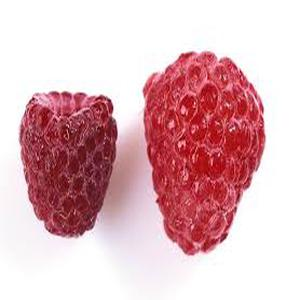raspb: (13, 32, 276, 266)
